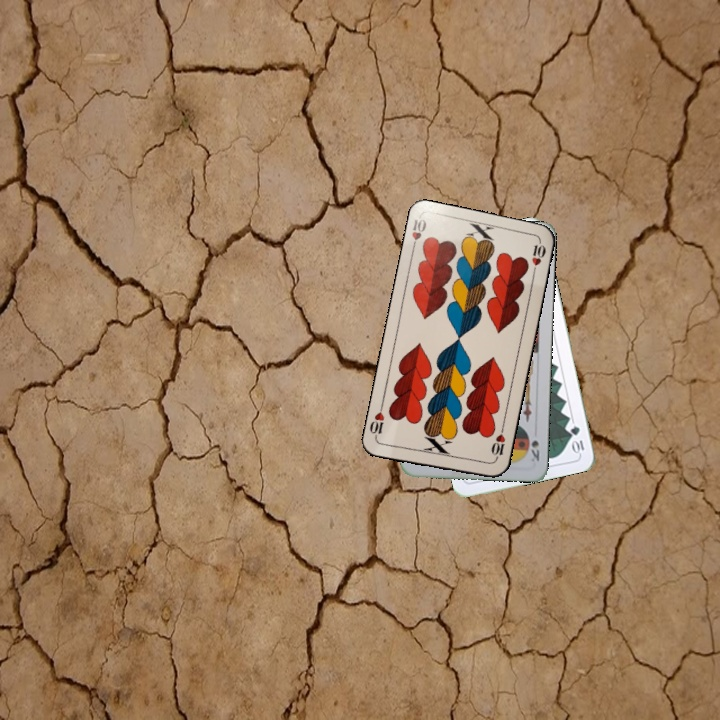G10: (567, 422, 587, 456)
H10: (407, 214, 430, 254), (487, 423, 508, 464)
SK: (526, 436, 542, 464)
